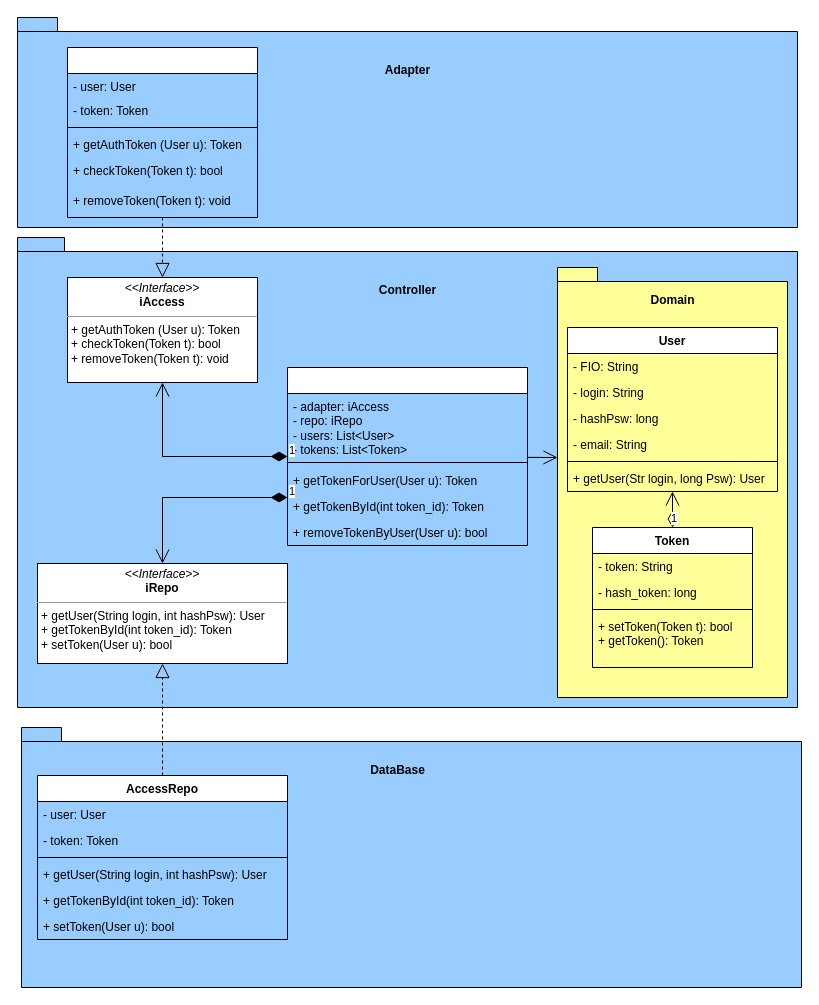
This 819x1005 diagram has some shape labels left out. Here are the shapes that lost their labels. From the top down, the box of each, then its label:
(66, 46, 258, 218): AccessManager
(286, 366, 528, 546): AccessController
